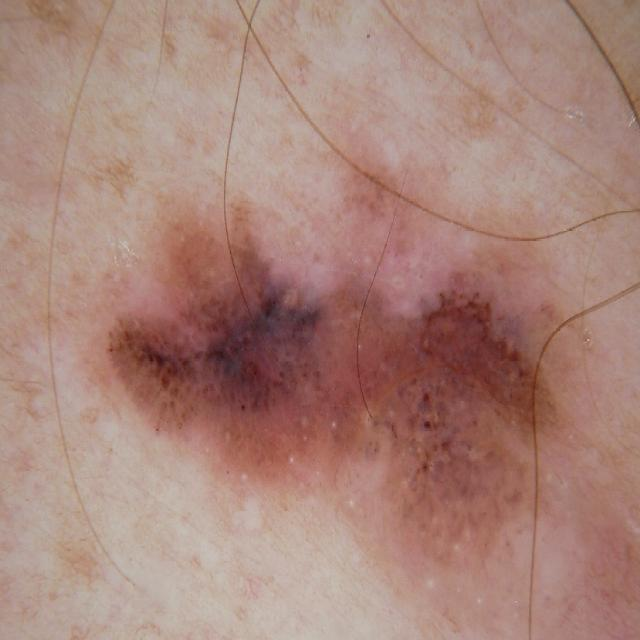Melanoma: (96, 216, 589, 584)
